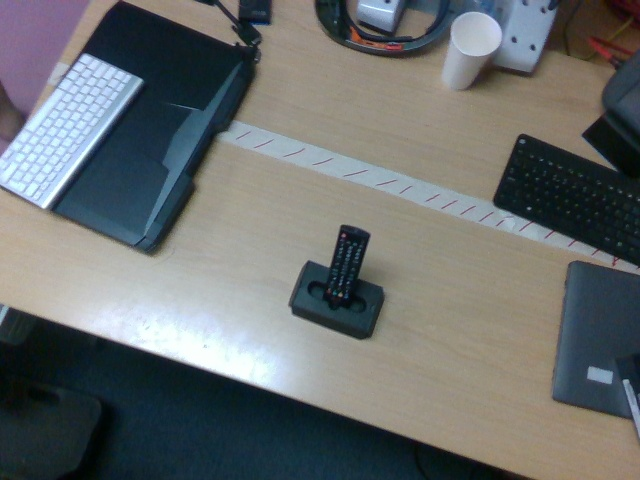remote: (324, 224, 370, 310)
